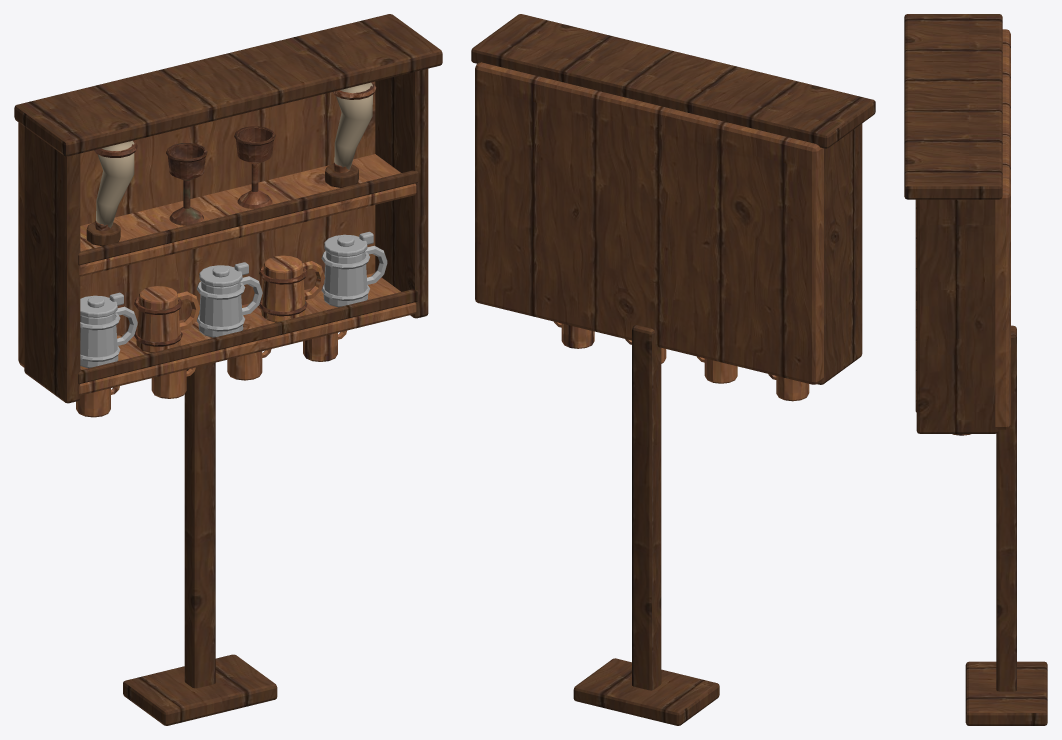
File: hm_tankard_shelf.glb
3 renders of one model, left to right at view 1: azimuth 30°, elevation 25°; view 2: azimuth 150°, elevation 25°; view 3: azimuth 270°, elevation 25°, orthographic. The views are drawn at different scales.
Visible parts, largest first — view 1: model; view 2: model; view 3: model.
Boxes of the visible parts, left/top/right/bottom form: model: left=14, top=14, right=442, bottom=725; model: left=471, top=14, right=875, bottom=725; model: left=904, top=14, right=1047, bottom=725.
Size of the model in its own units: 1 by 1.62 by 0.35.
Materials: 9 (7 with a texture image).
